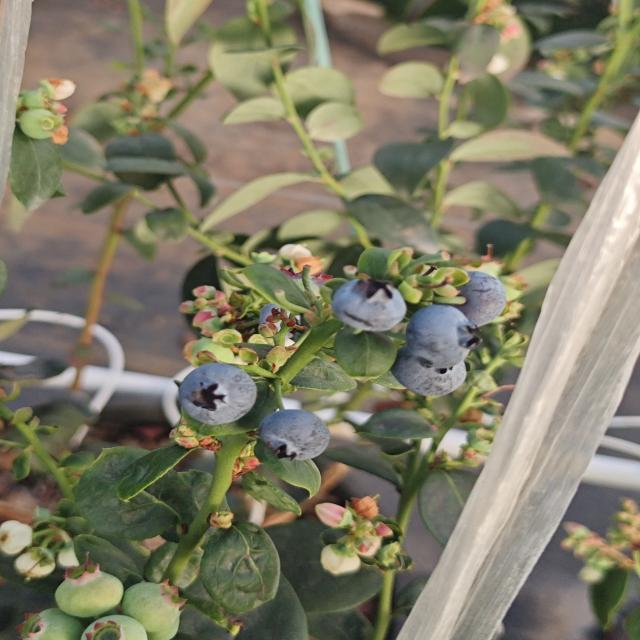ripe: (174, 362, 260, 428), (402, 304, 486, 370), (328, 275, 409, 335), (384, 348, 473, 402), (255, 408, 332, 463), (463, 268, 513, 322)
